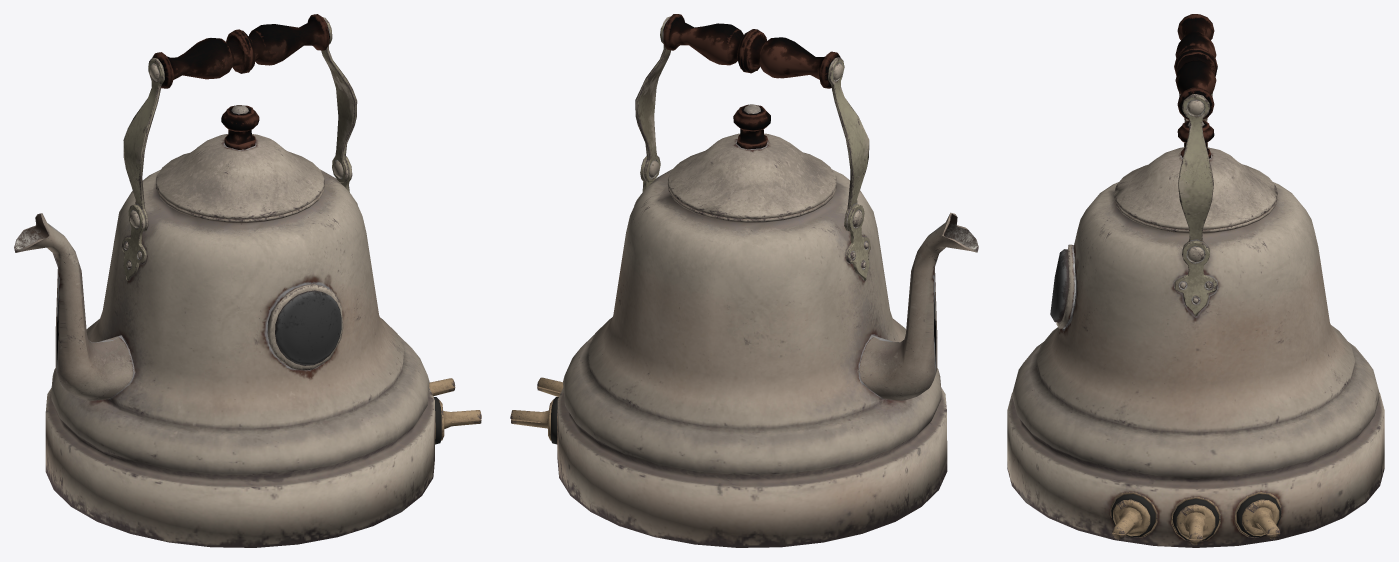
File: kettle.glb
3 renders of one model, left to right at view 1: azimuth 30°, elevation 25°; view 2: azimuth 150°, elevation 25°; view 3: azimuth 270°, elevation 25°, orthographic. The views are drawn at different scales.
Parts seen in each view (by area): view 1: vintage_electric_kettle; view 2: vintage_electric_kettle; view 3: vintage_electric_kettle.
Boxes of the visible parts, x1,y1,x2,y2 form: vintage_electric_kettle: (14, 14, 481, 547); vintage_electric_kettle: (510, 14, 978, 547); vintage_electric_kettle: (1007, 14, 1384, 547).
Size of the model in its own units: 0.253 by 0.24 by 0.1954.
Materials: 2 (2 with a texture image).
